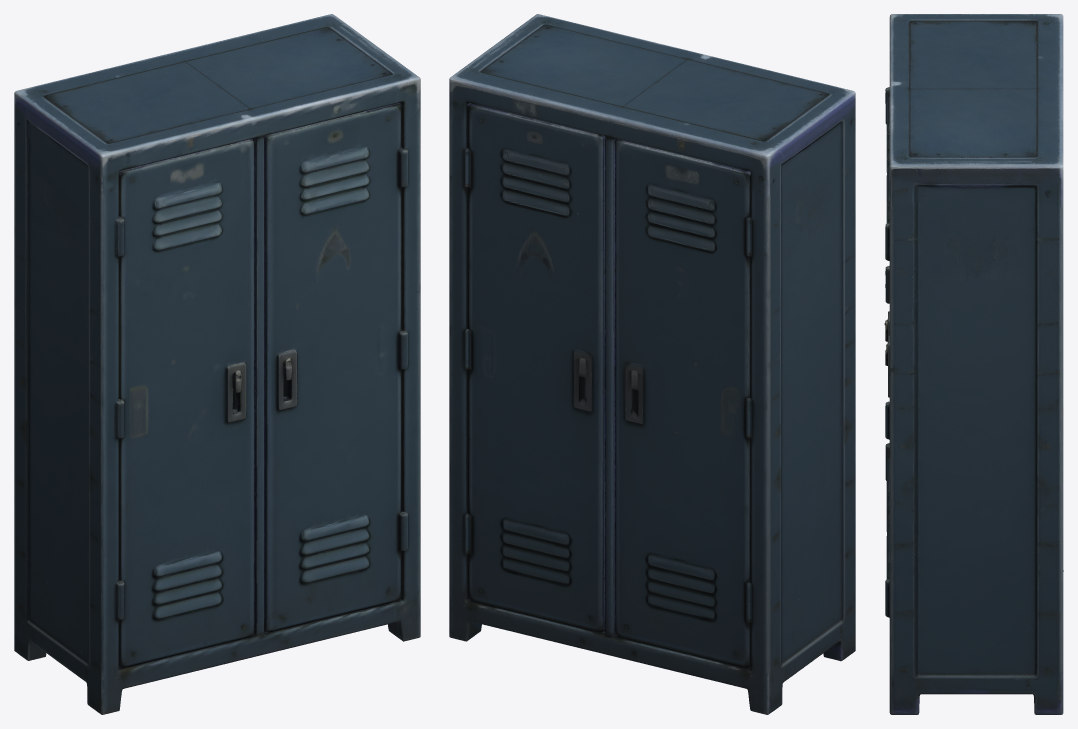
File: Meshy_AI_Blue_Metal_Locker_0516082505_texture.fbx
3 renders of one model, left to right at view 1: azimuth 30°, elevation 25°; view 2: azimuth 150°, elevation 25°; view 3: azimuth 270°, elevation 25°, orthographic. The views are drawn at different scales.
Visible parts, largest first — view 1: Mesh_0; view 2: Mesh_0; view 3: Mesh_0.
Part boxes in pixels (<box>): Mesh_0: <box>14,14,420,714</box>; Mesh_0: <box>449,14,855,714</box>; Mesh_0: <box>884,14,1063,714</box>.
Size of the model in its own units: 113 by 190 by 56.08.
1 material, 1 textured.
